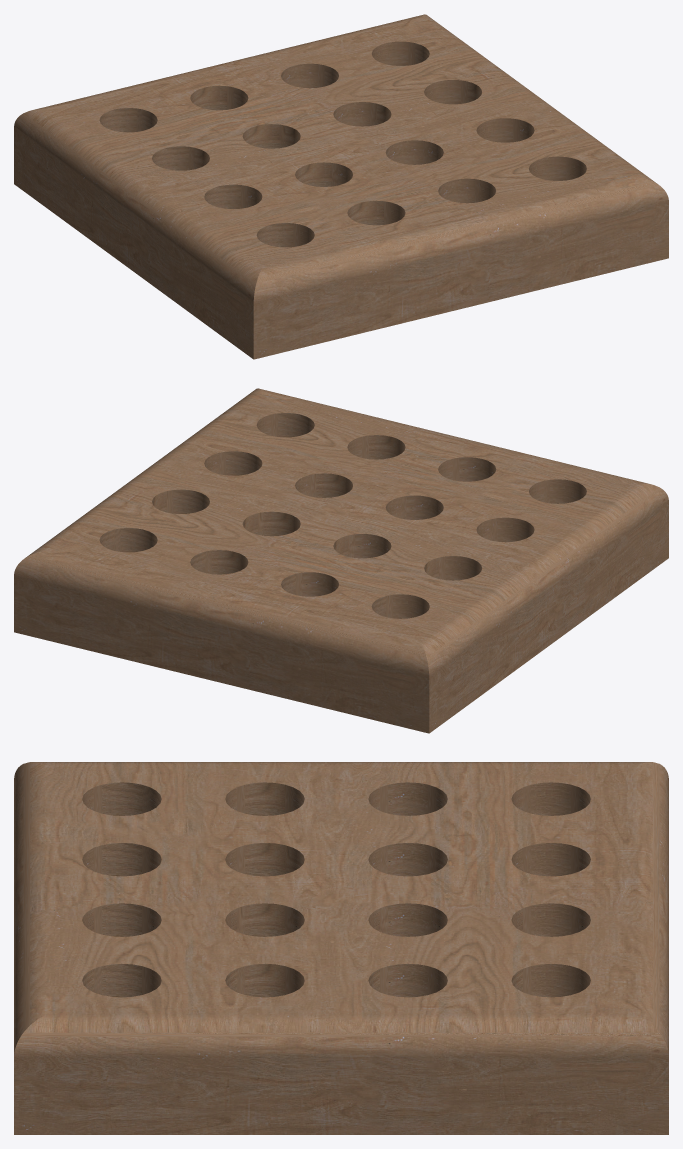
The model's file is pegboard.glb.
3 views of the same model, one above another, from view 1: azimuth 30°, elevation 25°; view 2: azimuth 150°, elevation 25°; view 3: azimuth 270°, elevation 25° (orthographic). The views are drawn at different scales.
Visible parts, largest first — view 1: SM_Pegboard; view 2: SM_Pegboard; view 3: SM_Pegboard.
Part boxes in pixels (x1=…): SM_Pegboard: x1=14, y1=14, x2=668, y2=359; SM_Pegboard: x1=14, y1=388, x2=668, y2=733; SM_Pegboard: x1=14, y1=762, x2=668, y2=1134.
Bounding box in the file's own units: 0.206 × 0.037 × 0.206.
1 material, 1 textured.
